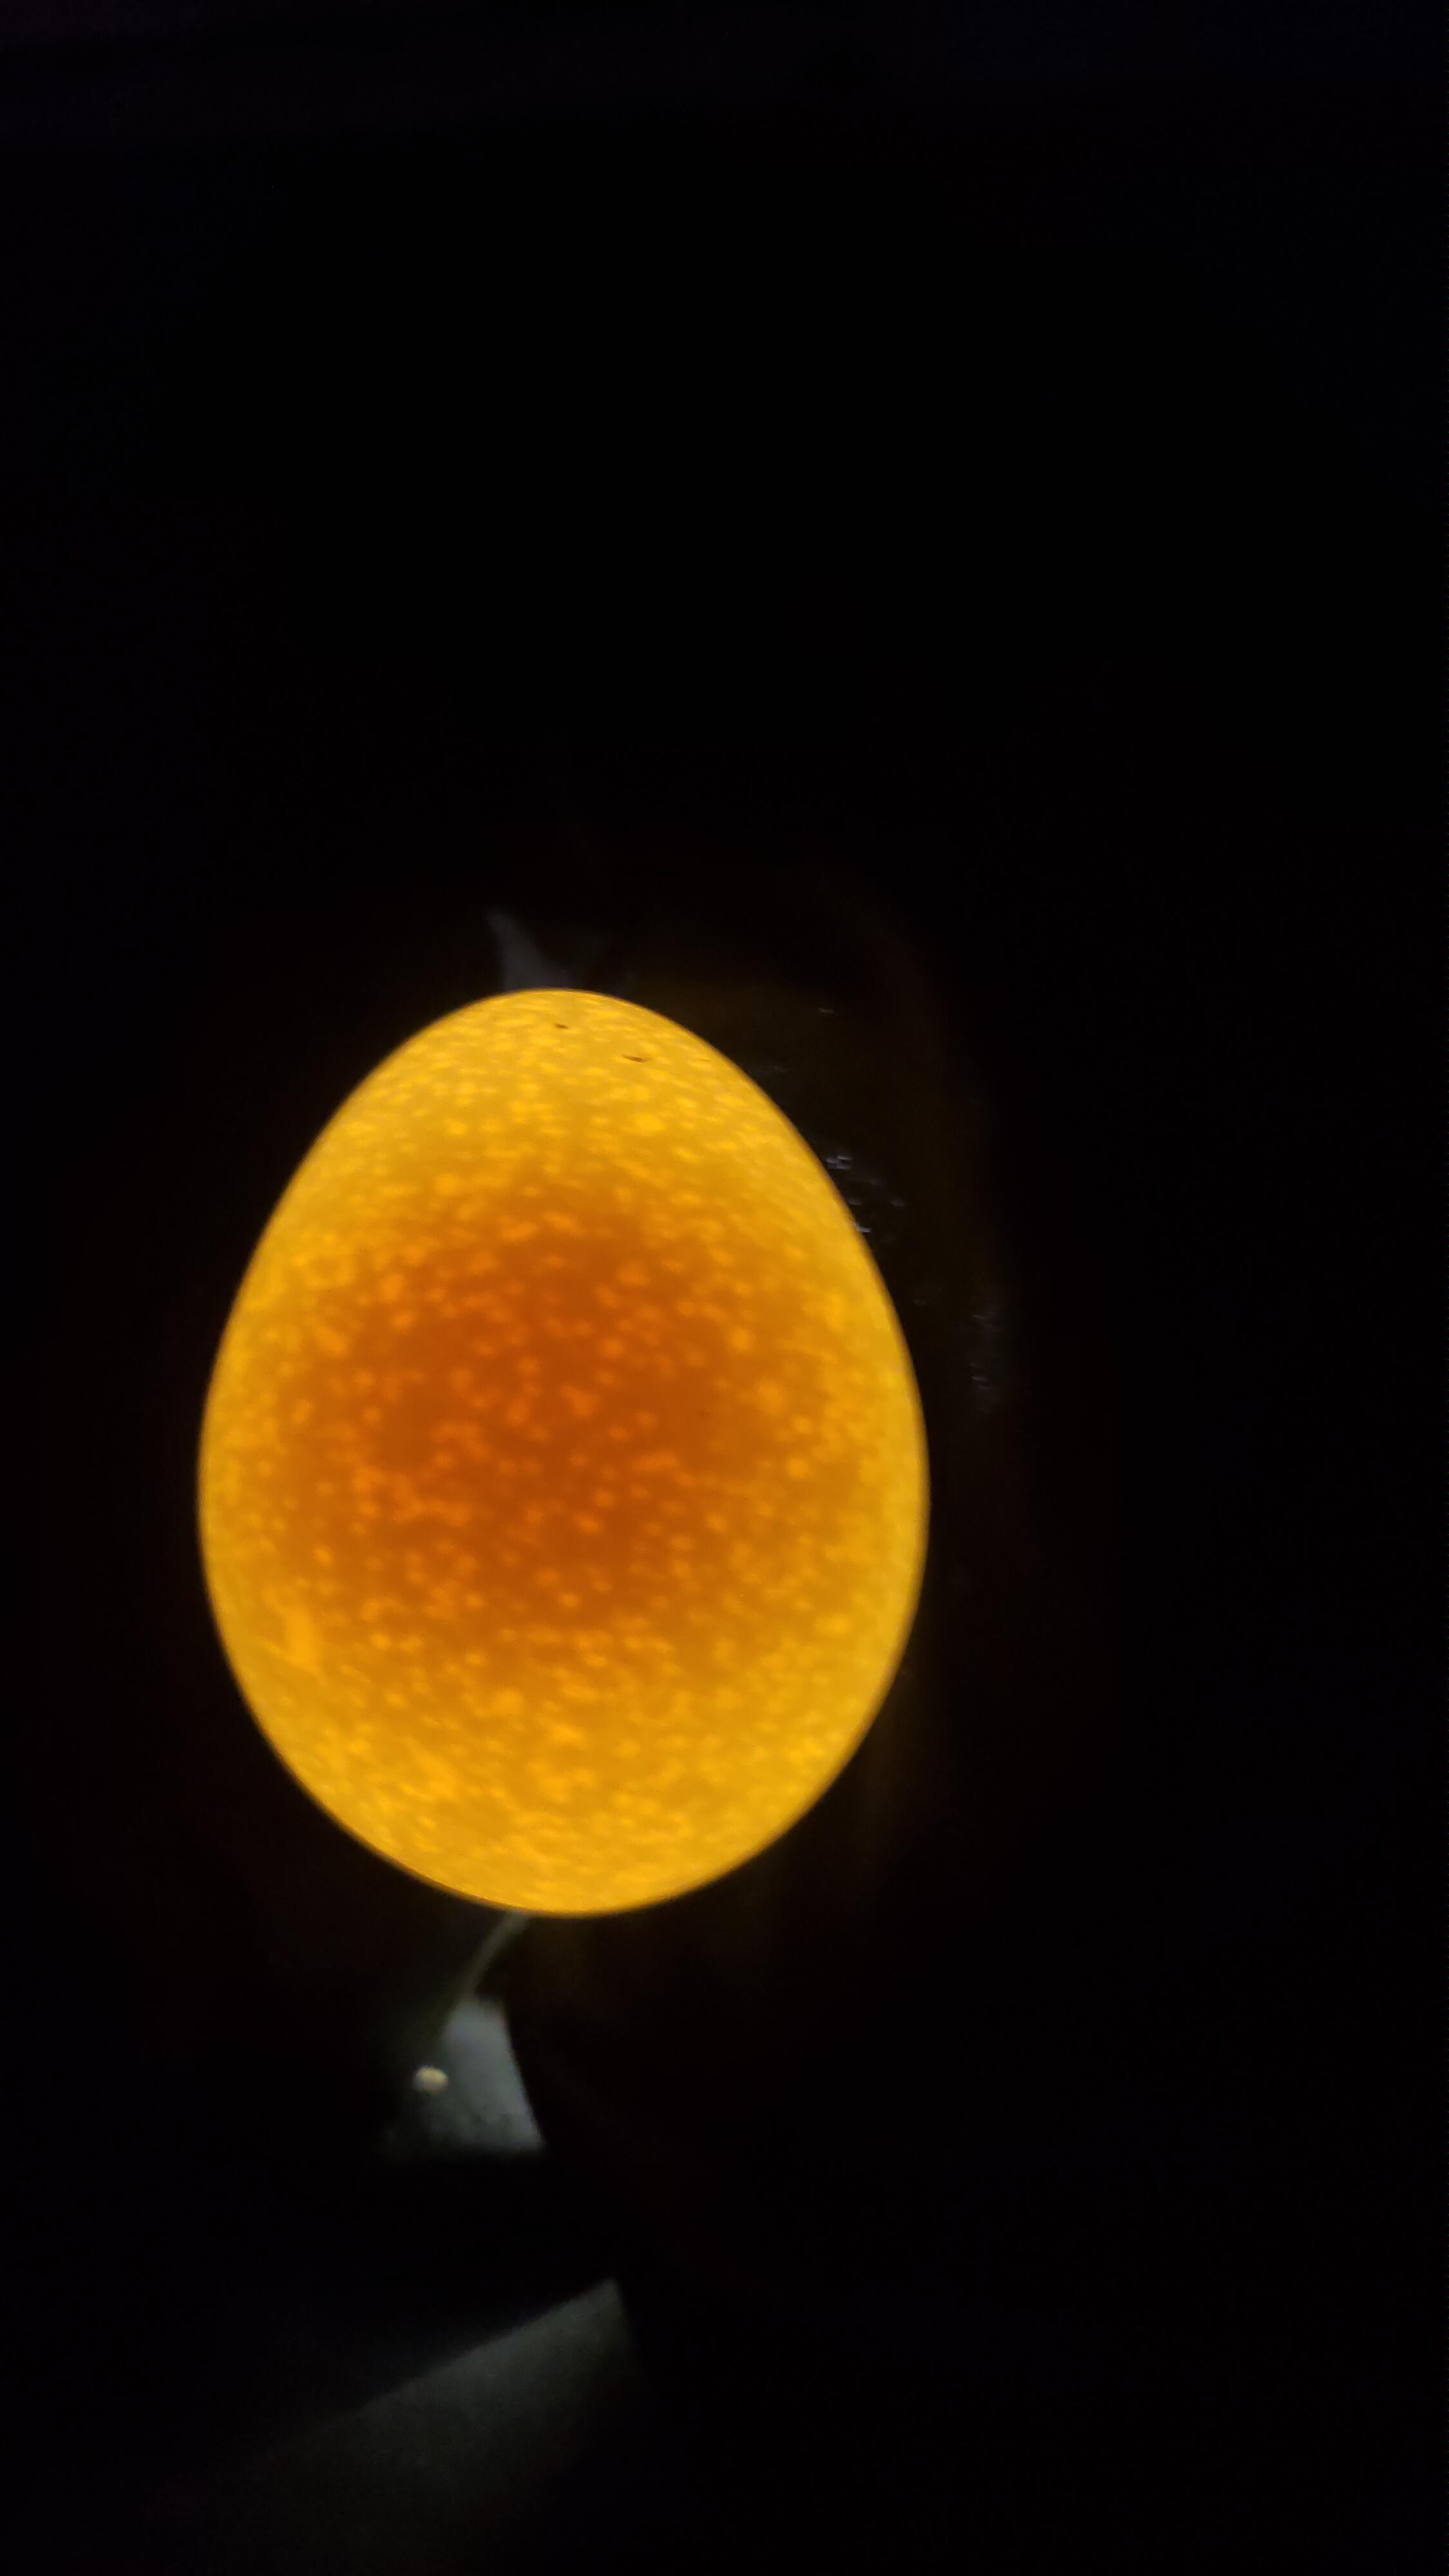A - Good: (173, 939, 954, 1964)
